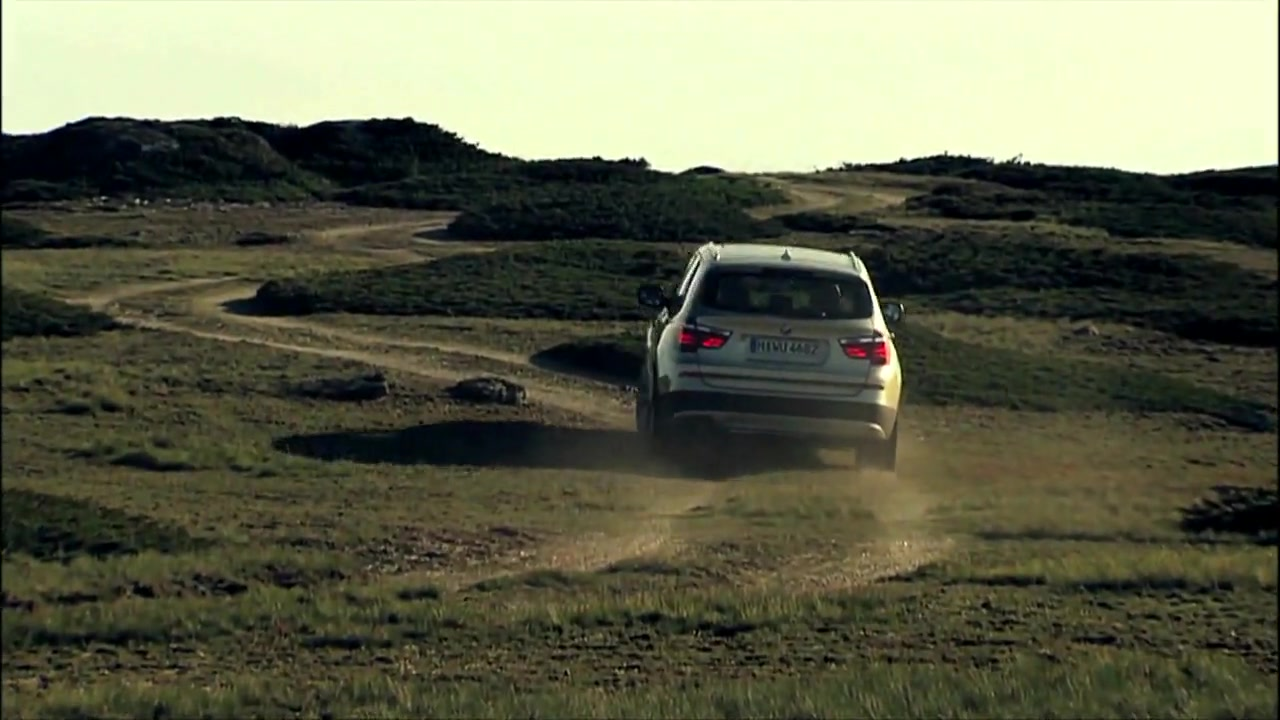car: (636, 236, 913, 473)
